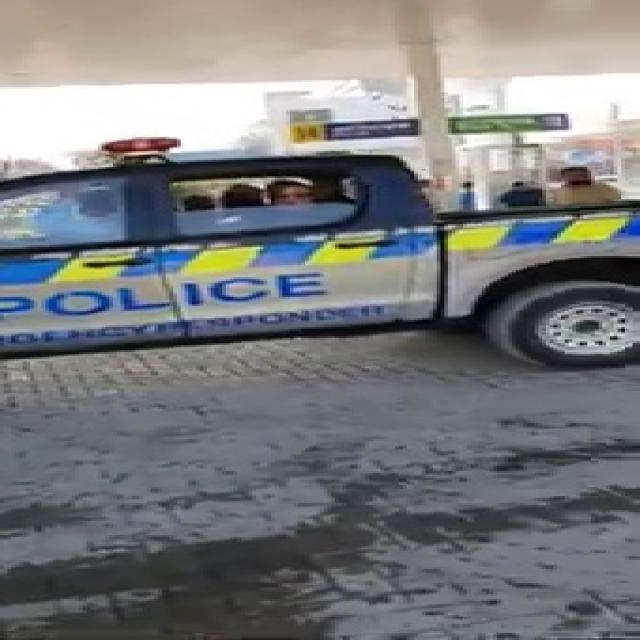police: (7, 144, 620, 362)
